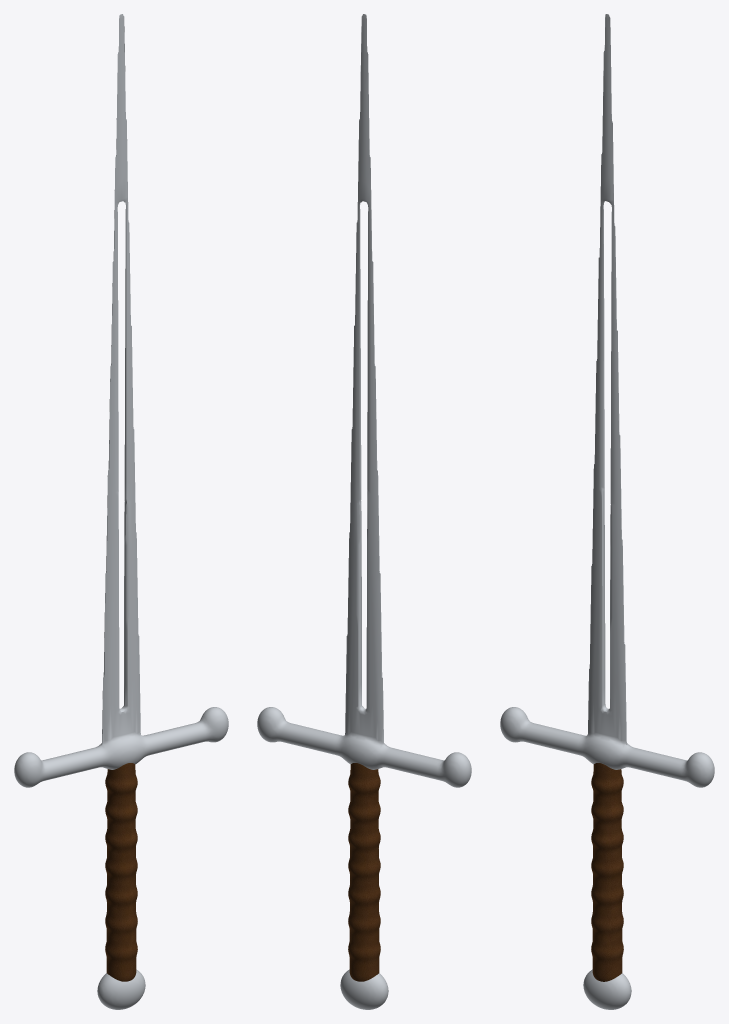
Rendered from w-longsword.glb.
3 renders of one model, left to right at view 1: azimuth 30°, elevation 25°; view 2: azimuth 150°, elevation 25°; view 3: azimuth 330°, elevation 25°, orthographic.
Visible parts, largest first — view 1: w-longsword; view 2: w-longsword; view 3: w-longsword.
Boxes of the visible parts, bbox=[...] form: w-longsword: bbox=[14, 14, 228, 1009]; w-longsword: bbox=[257, 14, 471, 1009]; w-longsword: bbox=[500, 14, 714, 1009].
Bounding box in the file's own units: 0.2616 × 1.18 × 0.0359.
Materials: 2 (1 with a texture image).
